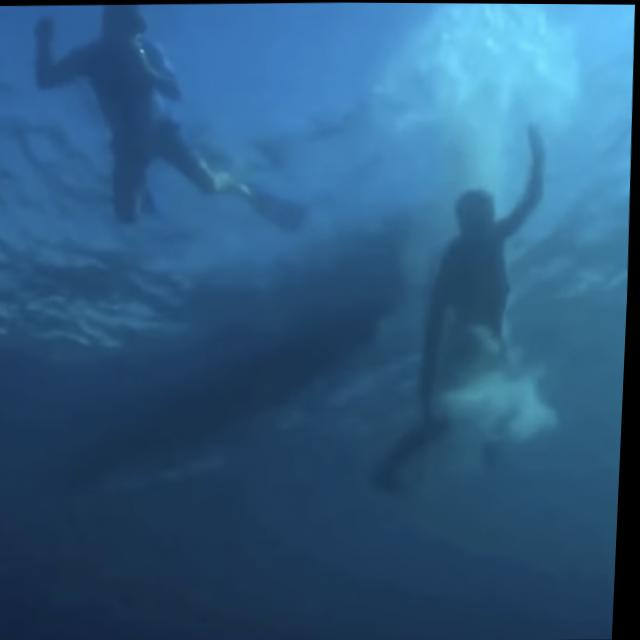human: (354, 108, 588, 500), (21, 0, 328, 254)
